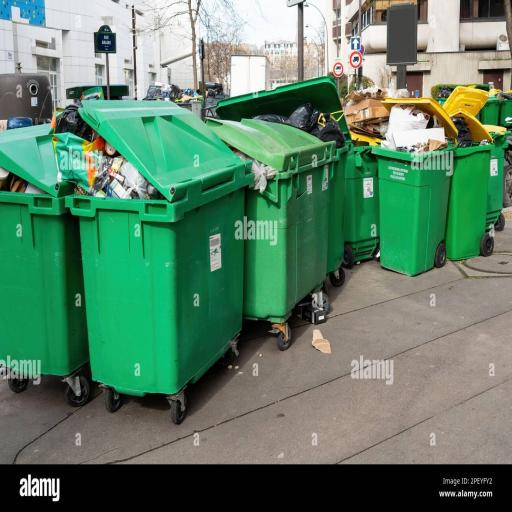contenedor_lleno: (0, 77, 349, 400), (377, 97, 490, 275)
